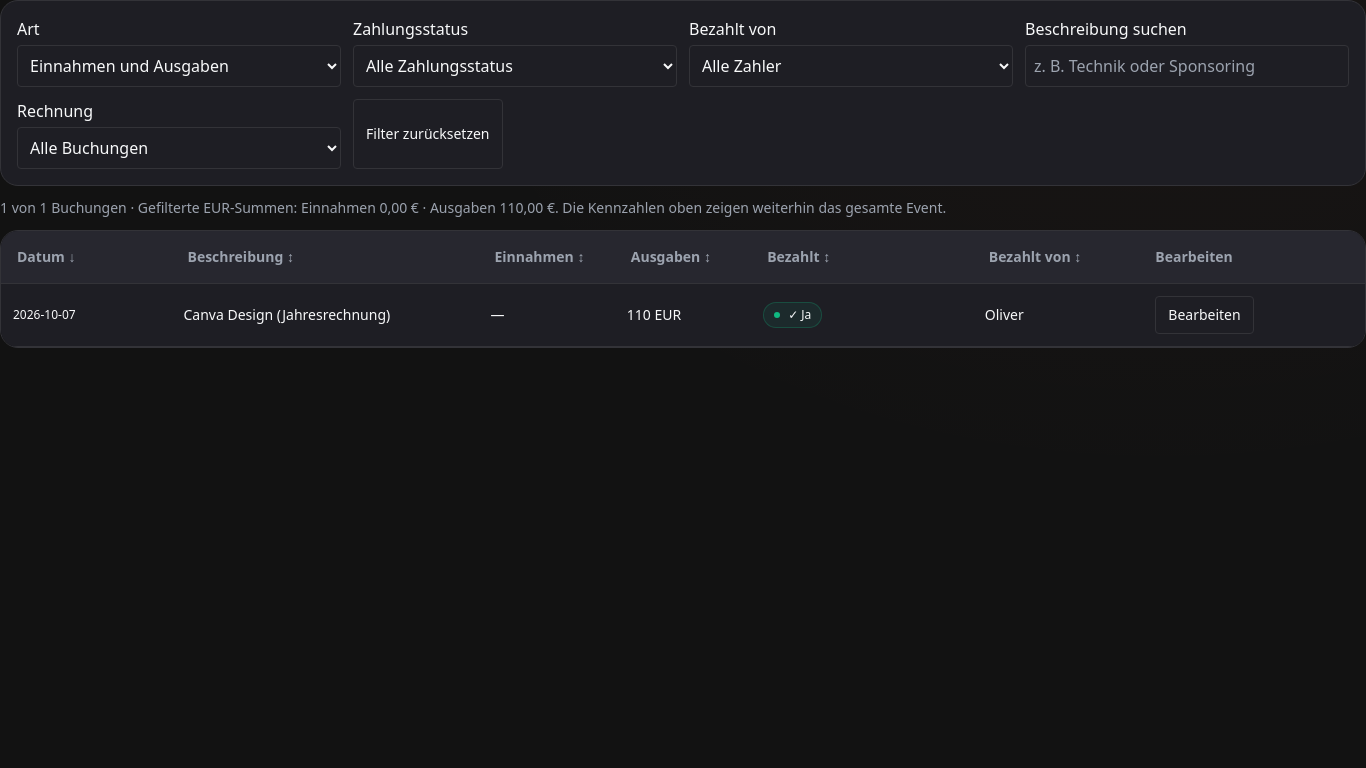
Test: opens editing outside the scrolling table and keeps all fields and deletion available
Click the button "Bearbeiten" at (1204, 315), box x1=1155 y1=296 x2=1254 y2=334
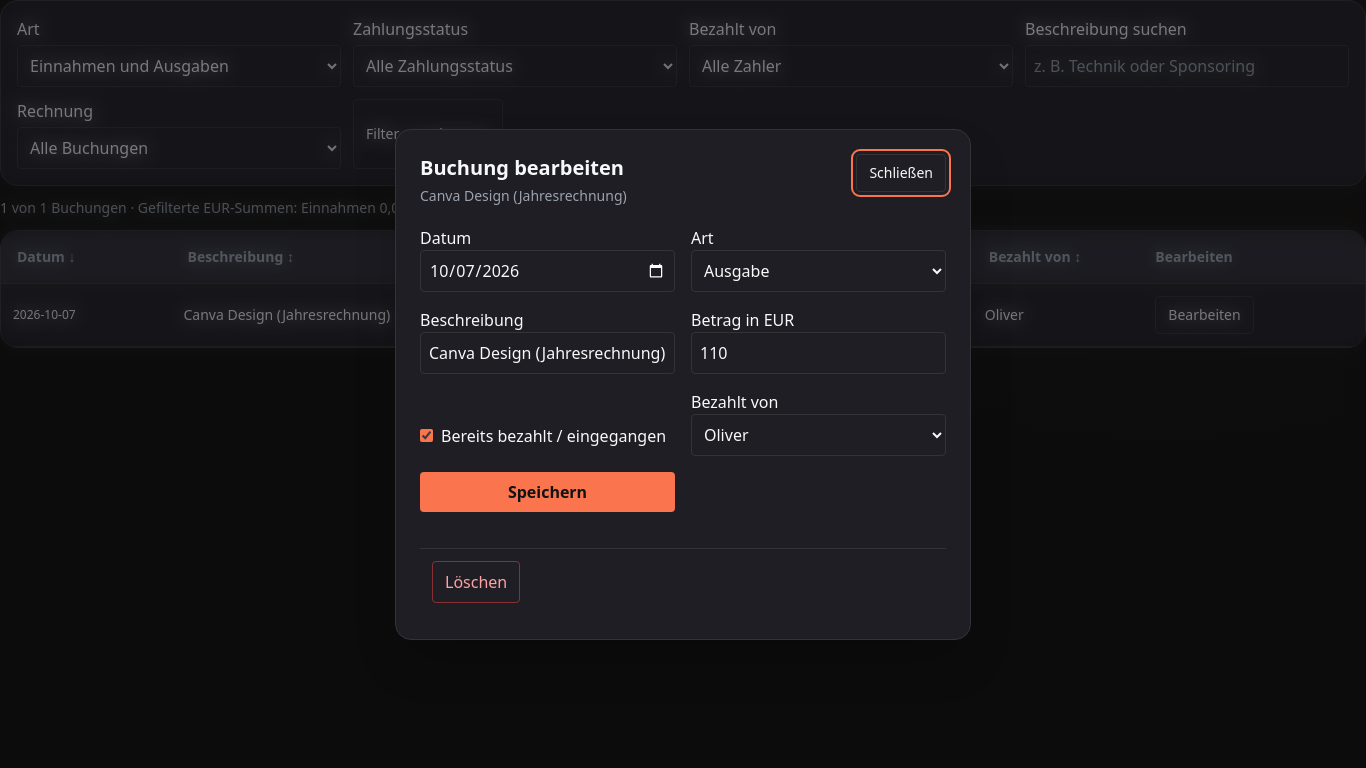
expect the field labelled "Beschreibung" holds "Canva Design (Jahresrechnung)": met, box x1=420 y1=332 x2=675 y2=374
expect the dropdown labelled "Bezahlt von" shows "Oliver": met, box x1=691 y1=414 x2=946 y2=456
expect the button "Speichern" is shown: met, box x1=420 y1=472 x2=675 y2=512
Click the button "Schließen" at (901, 172), box x1=856 y1=154 x2=946 y2=192
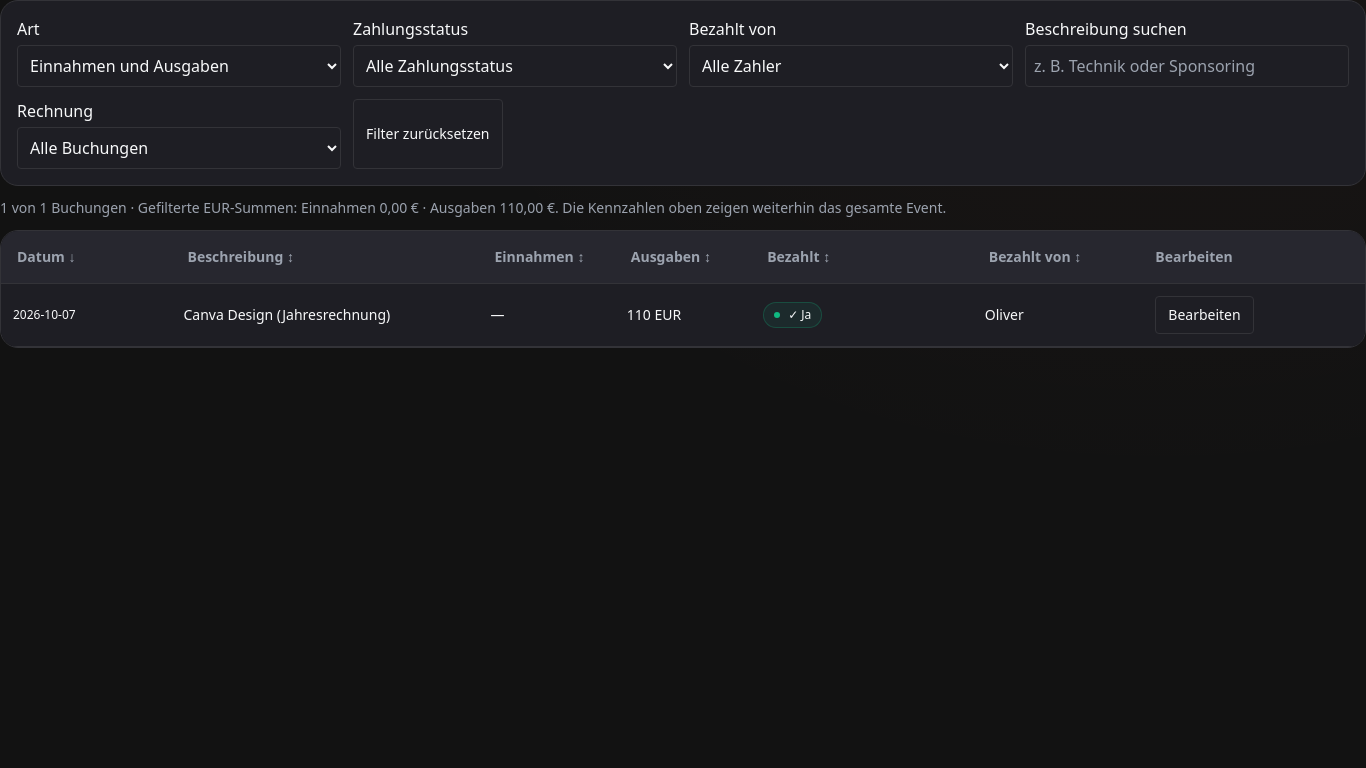
expect the dialog is gone: met
